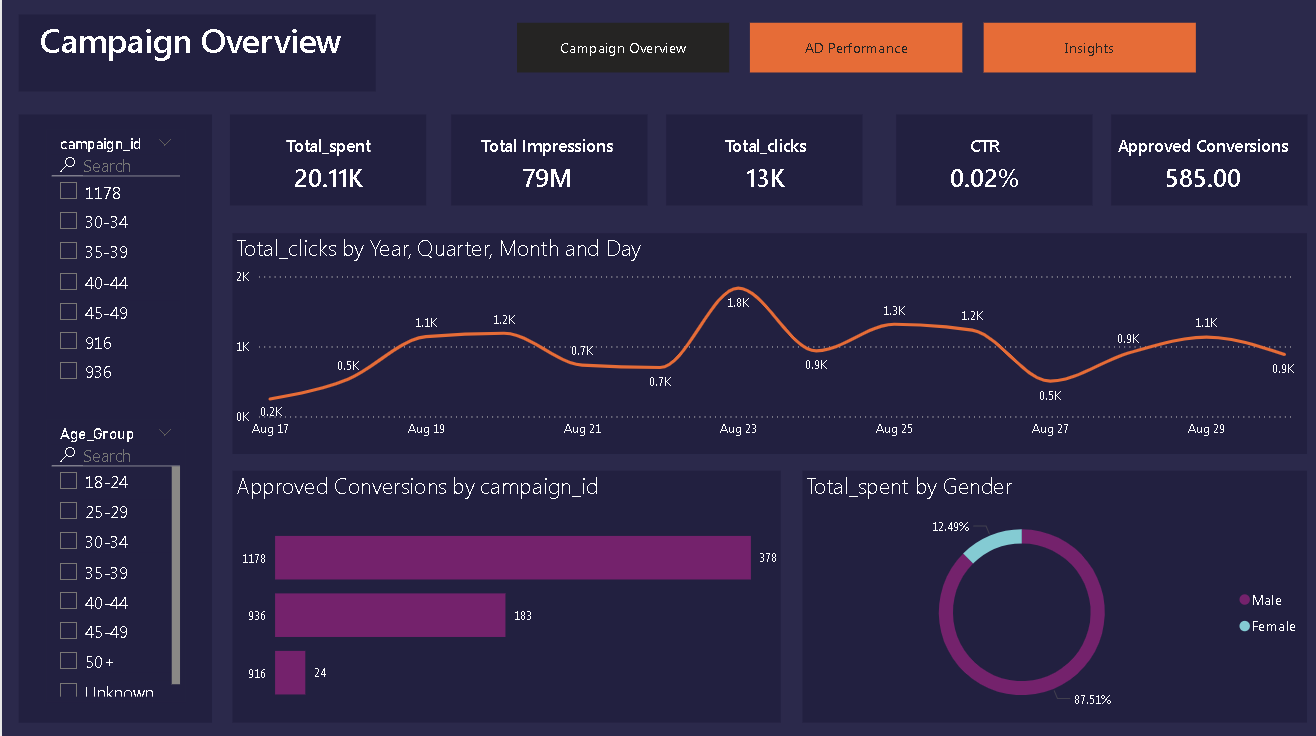

The page's visual inventory and layout, read from the dashboard file:
{"tool":"powerbi","page":{"name":"Campaign Overview","canvas":[1280,720],"ordinal":0},"visuals":[{"type":"shape","box":[14.5,18.1,348.7,78.4],"z":0},{"type":"shape","box":[639.5,114.5,193.5,91.9],"z":1000},{"type":"shape","box":[861.8,114.5,193.5,91.9],"z":2000},{"type":"shape","box":[1069,114.5,193.5,91.9],"z":3000},{"type":"shape","box":[432.2,114.5,193.5,91.9],"z":4000},{"type":"shape","box":[218.2,114.5,193.5,91.9],"z":5000},{"type":"cardVisual","fields":{"Data":["All mesaures.Total_spent","All mesaures.Total Impressions","All mesaures.Total_clicks","All mesaures.CTR","All mesaures.Approved Conversions"]},"box":[196.2,96.1,1084.1,133.1],"z":6000},{"type":"shape","box":[14.5,114.6,190.6,591.2],"z":7000},{"type":"shape","box":[220.8,229.2,1041.2,217.2],"z":8000},{"type":"shape","box":[220.8,458.4,533.2,247.3],"z":9000},{"type":"shape","box":[770.9,458.4,491,247.3],"z":10000},{"type":"lineChart","fields":{"Y":["All mesaures.Total_clicks"],"Category":["Data.reporting_start.Variation.Date Hierarchy.Year","Data.reporting_start.Variation.Date Hierarchy.Quarter","Data.reporting_start.Variation.Date Hierarchy.Month","Data.reporting_start.Variation.Date Hierarchy.Day"]},"box":[220.8,229.2,1041.2,208.7],"z":11000},{"type":"barChart","fields":{"Category":["Data.campaign_id"],"Y":["All mesaures.Approved Conversions"]},"box":[220.8,458.4,533.2,247.3],"z":12000},{"type":"donutChart","title":"Total_spent by Gender","fields":{"Y":["All mesaures.Total_spent"],"Category":["Data.Clean_gender"]},"box":[770.9,458.4,491,247.3],"z":13000},{"type":"slicer","fields":{"Values":["Data.campaign_id"]},"box":[42.2,130.3,135.1,266.6],"z":14000},{"type":"slicer","fields":{"Values":["Data.Age_Group"]},"box":[42.2,410.2,135.1,273.9],"z":15000},{"type":"textbox","box":[22.9,18.1,368,96.5],"z":16000},{"type":"pageNavigator","box":[497.1,27.7,656.3,48.3],"z":17001}]}

Visuals, with their boxes in screenshot pixels (x1, y1, x2, y2), scaled from the page's 1280x720 canvas onto the 1316x736 screenshot:
shape: {"left": 15, "top": 19, "right": 373, "bottom": 99}
shape: {"left": 657, "top": 117, "right": 856, "bottom": 211}
shape: {"left": 886, "top": 117, "right": 1085, "bottom": 211}
shape: {"left": 1099, "top": 117, "right": 1298, "bottom": 211}
shape: {"left": 444, "top": 117, "right": 643, "bottom": 211}
shape: {"left": 224, "top": 117, "right": 423, "bottom": 211}
cardVisual - All mesaures.Total_spent x All mesaures.Total Impressions: {"left": 202, "top": 98, "right": 1315, "bottom": 234}
shape: {"left": 15, "top": 117, "right": 211, "bottom": 721}
shape: {"left": 227, "top": 234, "right": 1297, "bottom": 456}
shape: {"left": 227, "top": 469, "right": 775, "bottom": 721}
shape: {"left": 793, "top": 469, "right": 1297, "bottom": 721}
lineChart - All mesaures.Total_clicks x Data.reporting_start.Variation.Date Hierarchy.Year: {"left": 227, "top": 234, "right": 1297, "bottom": 448}
barChart - Data.campaign_id x All mesaures.Approved Conversions: {"left": 227, "top": 469, "right": 775, "bottom": 721}
"Total_spent by Gender" donutChart: {"left": 793, "top": 469, "right": 1297, "bottom": 721}
slicer - Data.campaign_id: {"left": 43, "top": 133, "right": 182, "bottom": 406}
slicer - Data.Age_Group: {"left": 43, "top": 419, "right": 182, "bottom": 699}
textbox: {"left": 24, "top": 19, "right": 402, "bottom": 117}
pageNavigator: {"left": 511, "top": 28, "right": 1186, "bottom": 78}
